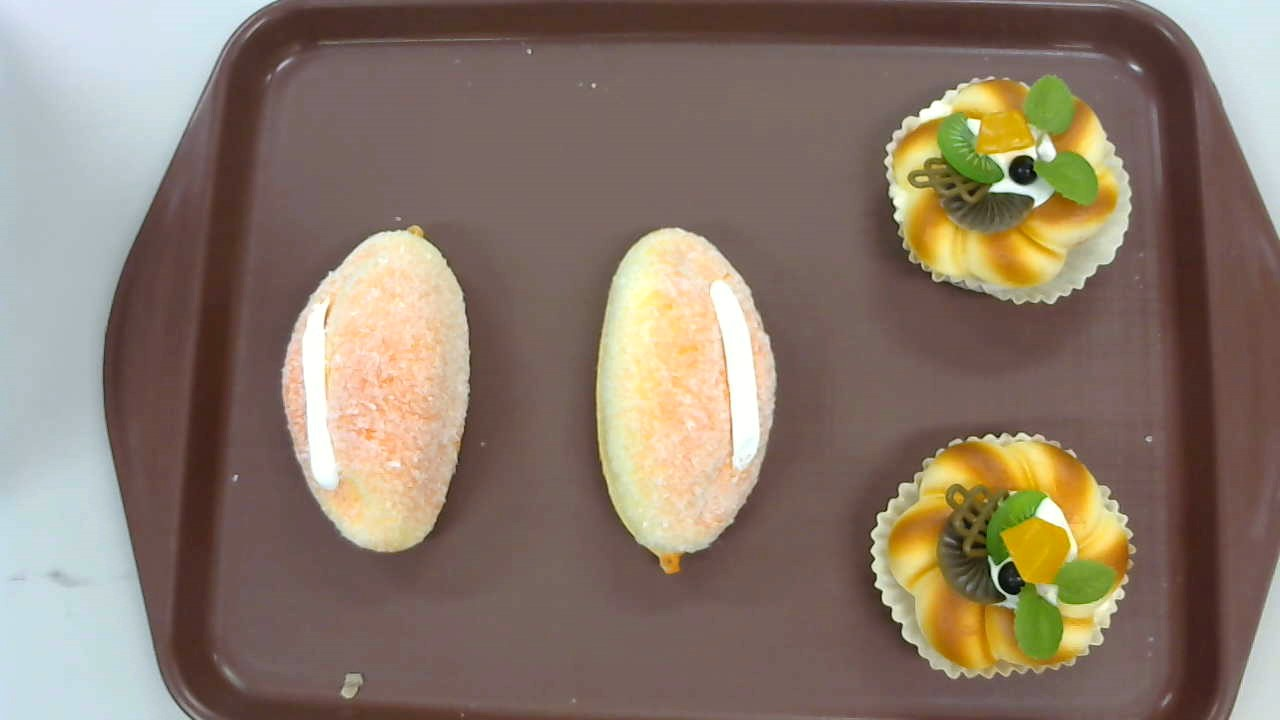coconut: (596, 228, 776, 576), (282, 224, 469, 553)
fruit tart: (871, 433, 1135, 680), (883, 72, 1133, 304)
